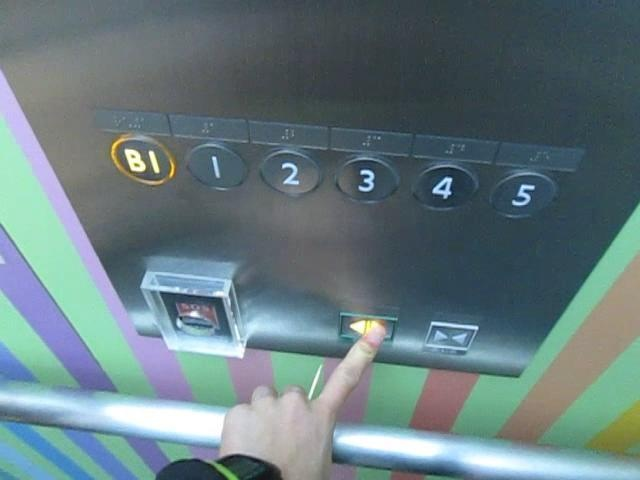1: (181, 136, 250, 193)
2: (255, 142, 324, 199)
3: (331, 148, 400, 205)
4: (407, 155, 476, 212)
5: (485, 166, 561, 222)
B1: (107, 130, 176, 187)
close: (416, 317, 480, 357)
open: (333, 308, 398, 345)
